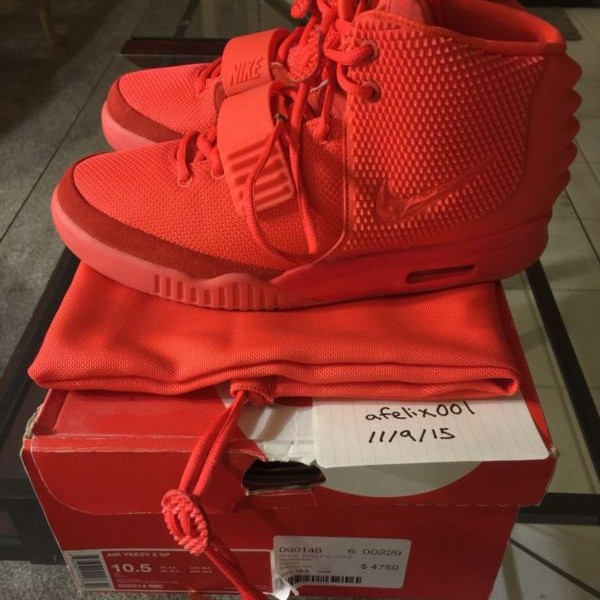Yeezy Red October: (43, 1, 584, 317)
